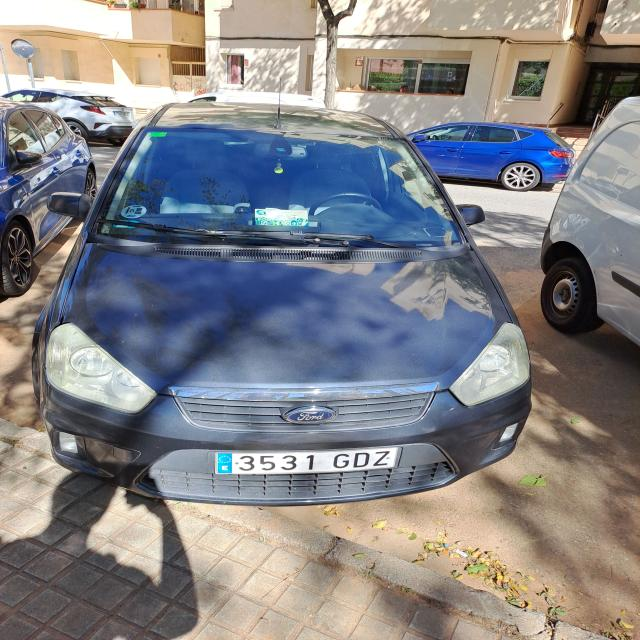license_plate-34Td: (215, 446, 402, 475)
